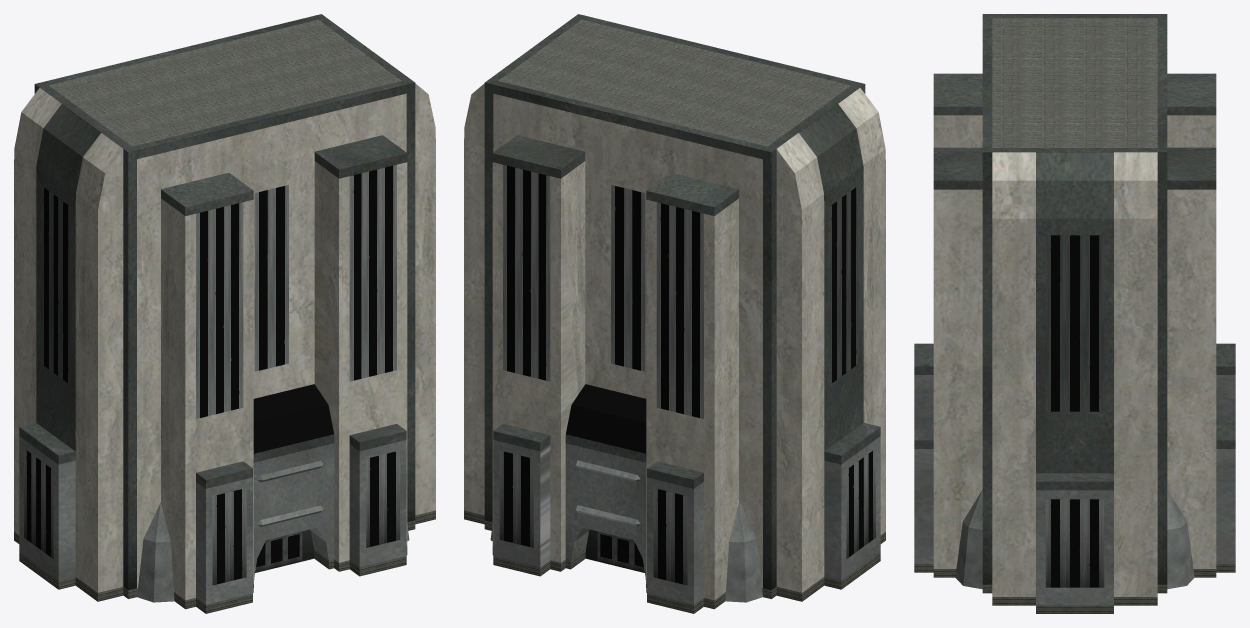
Rendered from thm_corl_imprv_building_s05_r0_mesh_l2.fbx.
The picture shows the model from 3 angles, left to right: view 1: azimuth 30°, elevation 25°; view 2: azimuth 150°, elevation 25°; view 3: azimuth 270°, elevation 25°; orthographic projection.
Visible parts, largest first — view 1: mesh_node; view 2: mesh_node; view 3: mesh_node.
Part boxes in pixels (box(x1,y1,x2,y2)): mesh_node: box(14, 14, 435, 613); mesh_node: box(464, 14, 885, 613); mesh_node: box(914, 14, 1235, 613).
Bounding box in the file's own units: 43.6 × 50 × 33.
